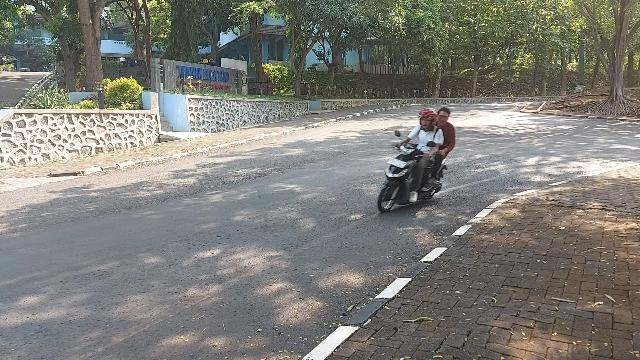helm: (420, 109, 439, 129)
motor: (379, 131, 448, 213)
non-helm: (439, 109, 452, 126)
